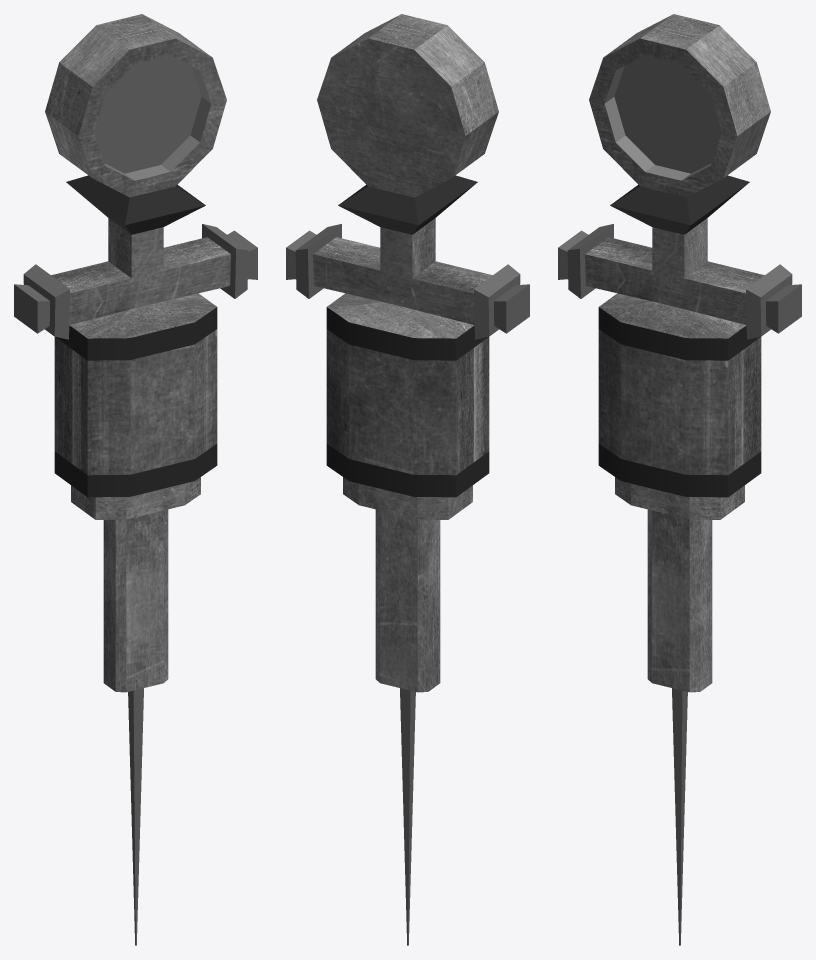
File: stimpack.fbx
The picture shows the model from 3 angles, left to right: view 1: azimuth 30°, elevation 25°; view 2: azimuth 150°, elevation 25°; view 3: azimuth 330°, elevation 25°; orthographic projection.
Parts seen in each view (by area): view 1: pCylinder1; view 2: pCylinder1; view 3: pCylinder1.
Part boxes in pixels (bbox=[...]): pCylinder1: bbox=[14, 14, 257, 945]; pCylinder1: bbox=[286, 14, 529, 945]; pCylinder1: bbox=[558, 14, 801, 945].
Size of the model in its own units: 3.64 by 14.43 by 1.69.
Materials: 3 (1 with a texture image).
